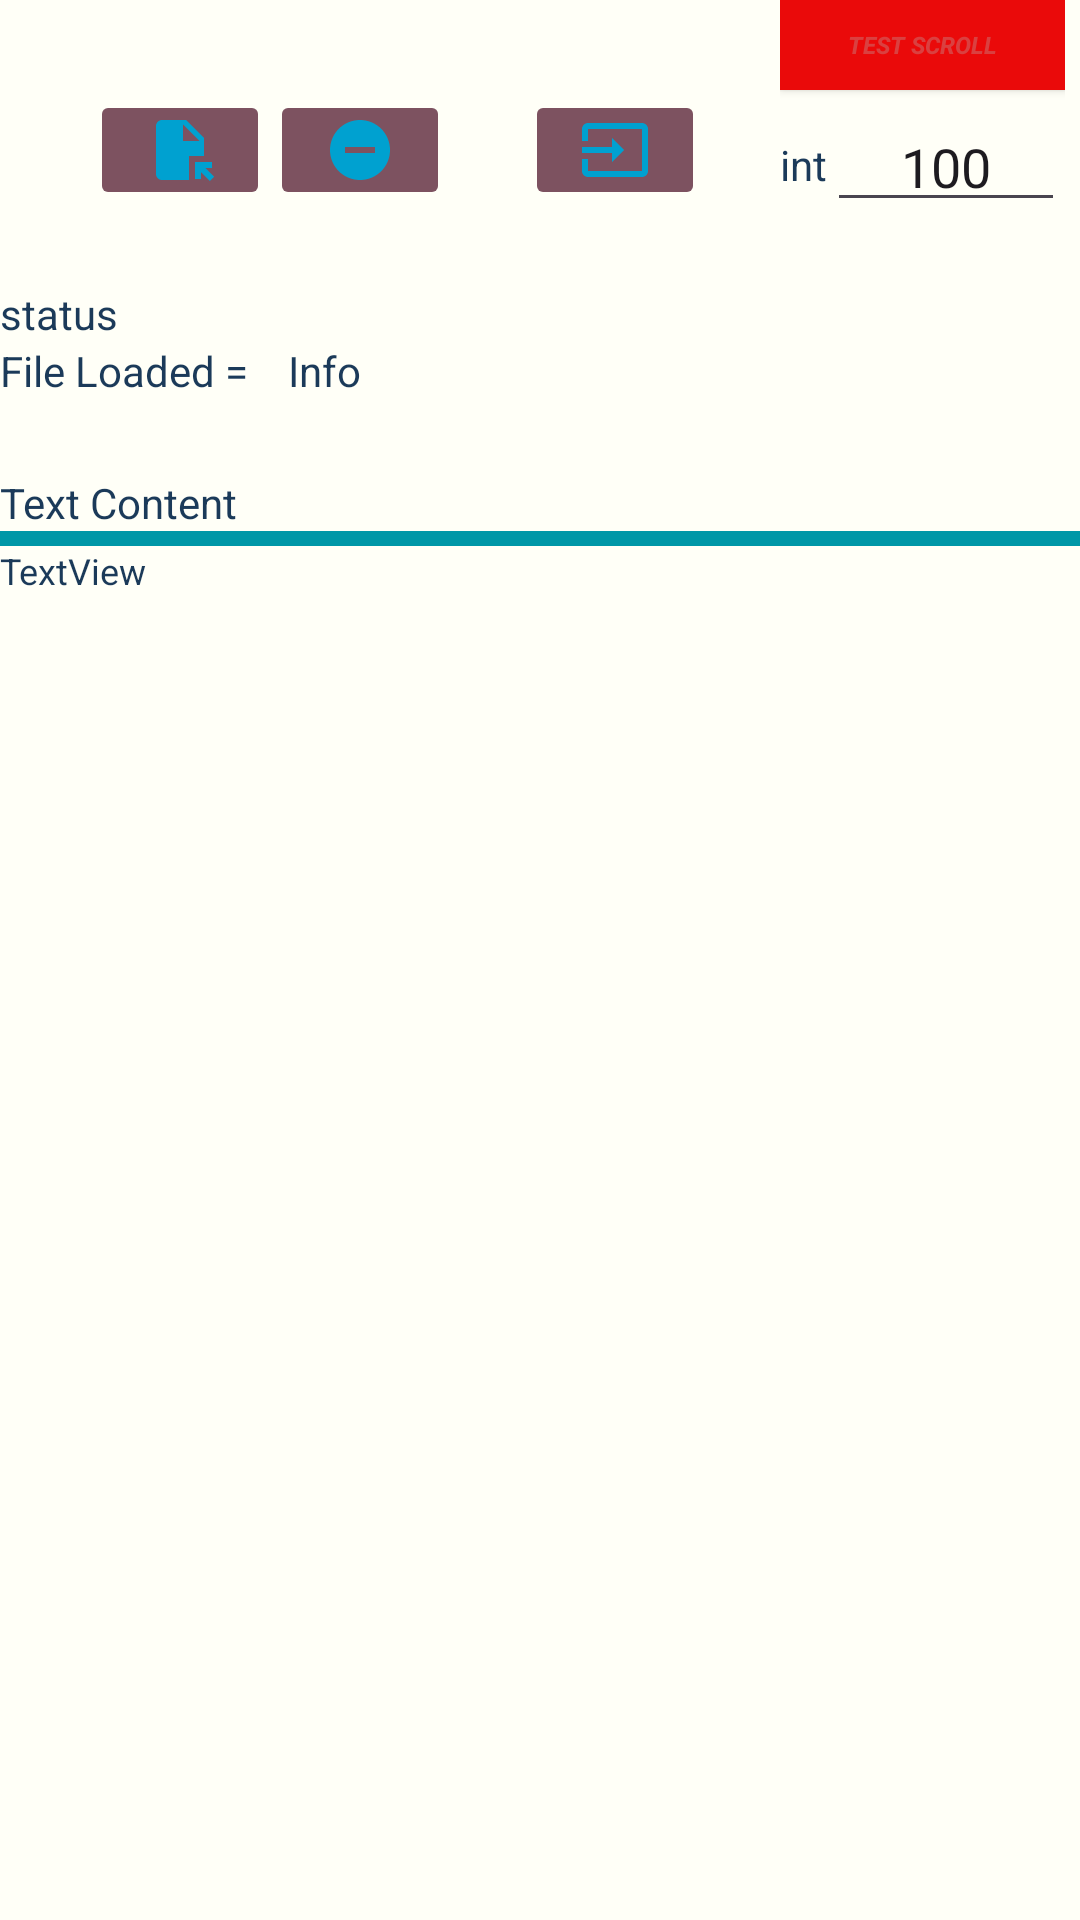

Icons on this 1080w x 1920h Android screen, each with the point to tap as (x,y):
context open: (180,150)
context remove: (360,150)
input: (615,150)
